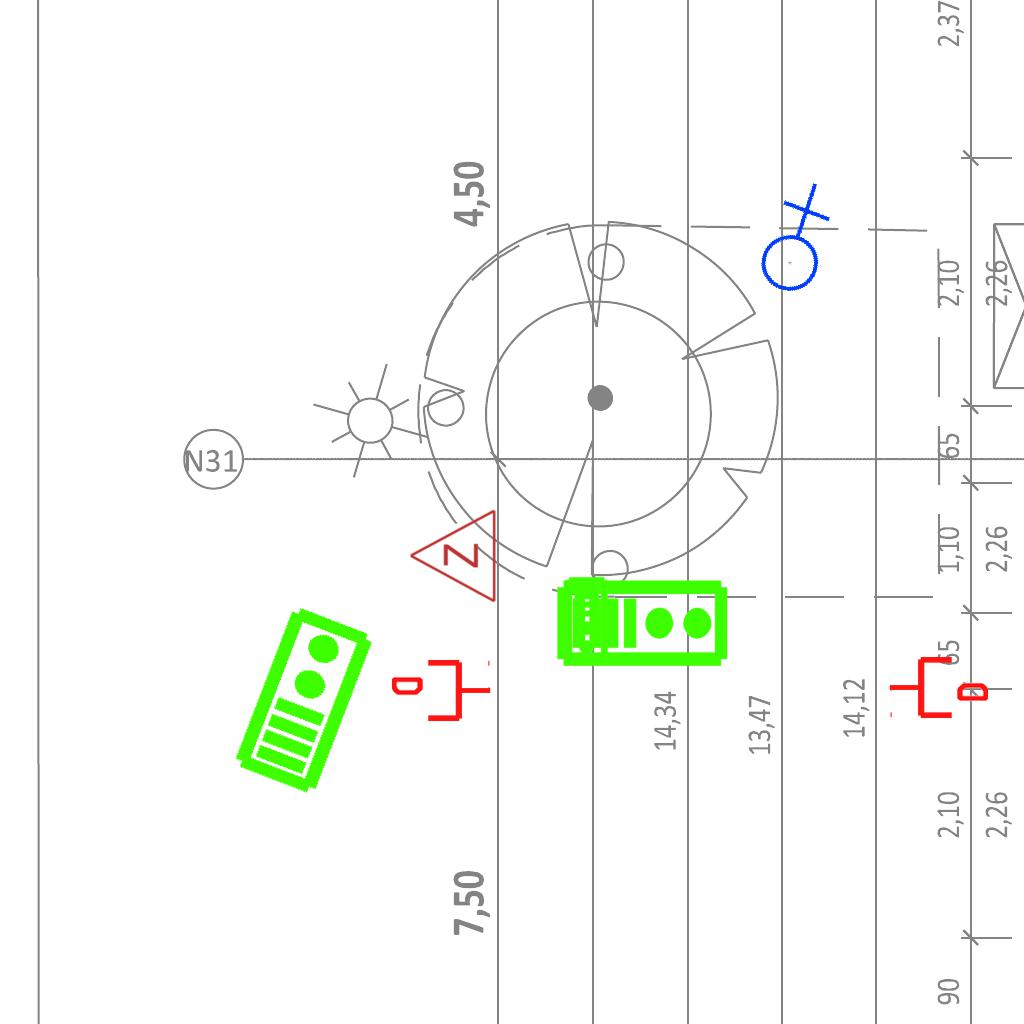Datenanschluss_einfach: (392, 656, 492, 725), (888, 653, 988, 722)
Elektroanschluss_allgemein_230V_Geraeteanschlussdose_230V: (726, 177, 859, 307)
Gegensprechanlage_mit_Video: (226, 599, 379, 799), (555, 574, 731, 669), (564, 576, 611, 664)
Zimmersignalleuchte: (403, 508, 503, 606)
